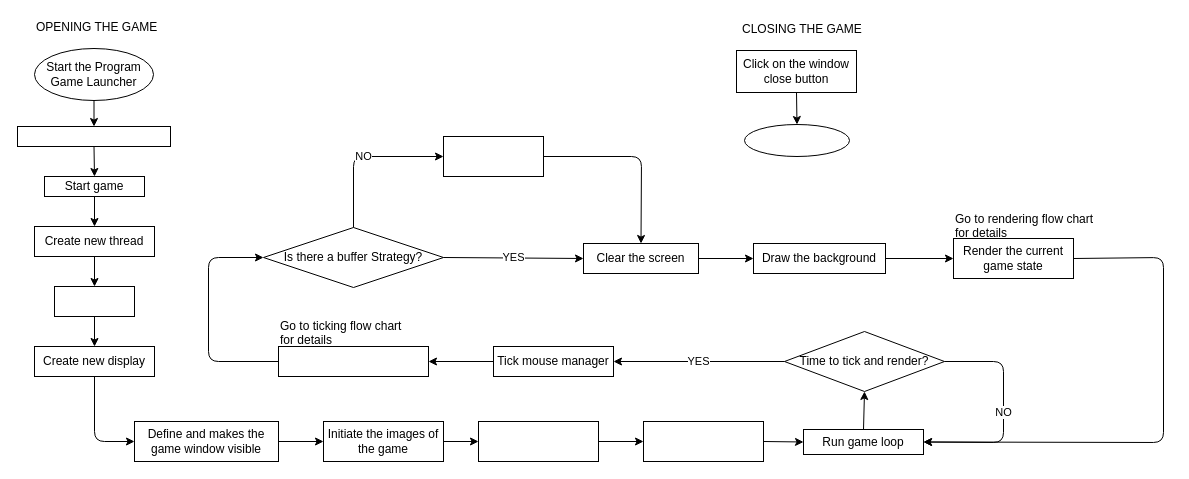
The diagram is 1189 pixels wide and 479 high, and some of its shapes have lost their labels. The box of each missing label's shape, as (x1, y1, x2, y2) in pixels:
Create a buffer strategy: (442, 136, 544, 176)
Create new Game object: (16, 126, 170, 146)
Create the game states: (478, 420, 598, 462)
Define the initial game state: (642, 420, 764, 462)
End the Program: (744, 124, 850, 156)
Start thread: (54, 286, 134, 316)
Tick current game state: (278, 346, 428, 376)
